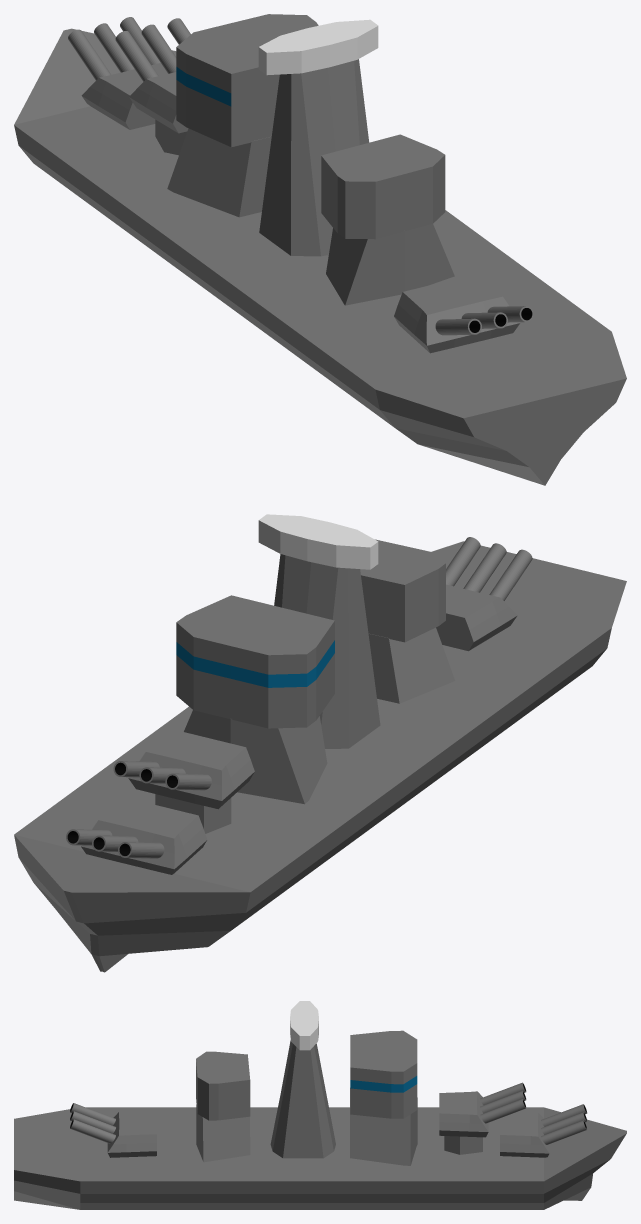
Rendered from Battleship.glb.
The picture shows the model from 3 angles, top to bottom: view 1: azimuth 30°, elevation 25°; view 2: azimuth 150°, elevation 25°; view 3: azimuth 270°, elevation 25°; orthographic projection. The views are drawn at different scales.
Parts seen in each view (by area): view 1: ship.013, Cube.019, Cube.018, Cube.022, Cube.023, Cube.017, Cube.024, Cube.021, Cube.014, Cube.016, Cylinder.009, Cylinder.010 (+4 smaller); view 2: ship.013, Cube.018, Cube.019, Cube.017, Cube.022, Cube.016, Cube.014, Cube.021, Cube.023, Cube.024, Cube.015, Cylinder.014 (+4 smaller); view 3: ship.013, Cube.018, Cube.019, Cube.022, Cube.017, Cube.023, Cube.016, Cube.024, Cube.014, Cube.021, Cube.015, Cylinder.008 (+8 smaller).
Part boxes in pixels (box(x1,y1,x2,y2)): ship.013: box(14, 28, 626, 485); Cube.019: box(259, 59, 369, 256); Cube.018: box(176, 14, 318, 147); Cube.022: box(321, 134, 445, 239); Cube.023: box(326, 224, 454, 305); Cube.017: box(167, 128, 271, 217); Cube.024: box(394, 276, 519, 353); Cube.021: box(258, 19, 378, 75); Cube.014: box(81, 63, 167, 129); Cube.016: box(129, 72, 188, 133); Cylinder.009: box(68, 29, 110, 80); Cylinder.010: box(115, 31, 158, 81); ship.013: box(14, 541, 626, 972); Cube.018: box(176, 595, 334, 728); Cube.019: box(274, 554, 380, 748); Cube.017: box(184, 710, 327, 804); Cube.022: box(360, 539, 445, 642); Cube.016: box(128, 731, 254, 809); Cube.014: box(81, 799, 207, 874); Cube.021: box(258, 514, 378, 569); Cube.023: box(368, 627, 454, 703); Cube.024: box(436, 584, 517, 651); Cube.015: box(155, 794, 231, 833); Cylinder.014: box(489, 549, 532, 600); ship.013: box(14, 1107, 626, 1209); Cube.018: box(350, 1030, 417, 1118); Cube.019: box(270, 1040, 335, 1158); Cube.022: box(196, 1051, 250, 1120); Cube.017: box(350, 1088, 417, 1165); Cube.023: box(196, 1104, 250, 1162); Cube.016: box(439, 1091, 488, 1137); Cube.024: box(107, 1112, 156, 1157); Cube.014: box(500, 1113, 549, 1157); Cube.021: box(290, 1001, 318, 1050); Cube.015: box(444, 1136, 482, 1154); Cylinder.008: box(541, 1120, 587, 1144).
Bounding box in the file's own units: 5.19 × 5.95 × 18.17.
